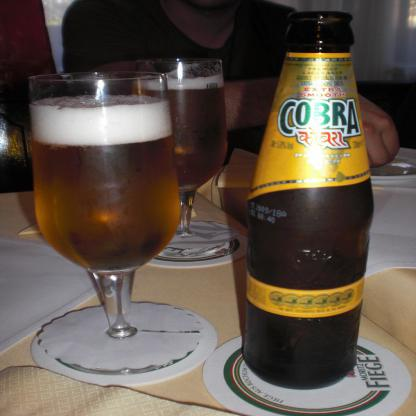drinking: (28, 71, 202, 375), (242, 10, 373, 390), (135, 56, 239, 262)
